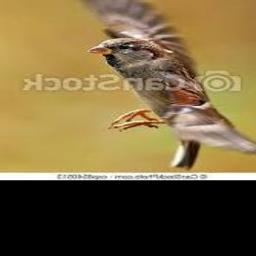Sparrow: (78, 0, 256, 170)
